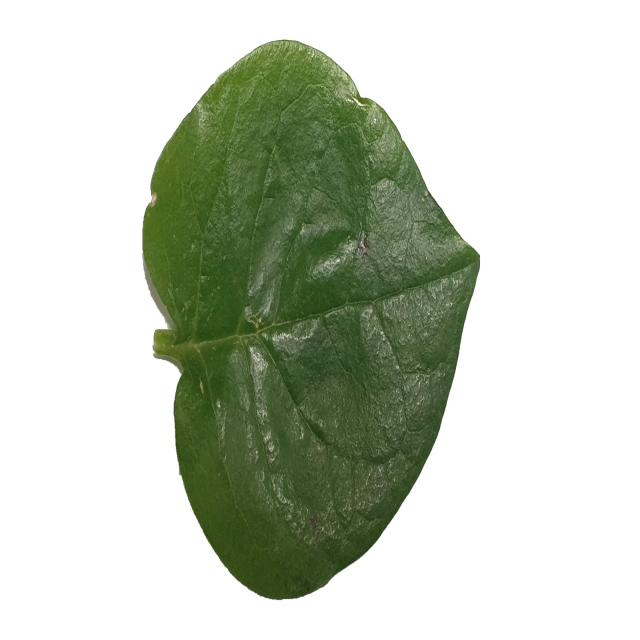Medicinal-Basale: (141, 36, 481, 601)
